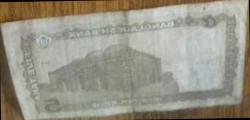5 taka: (19, 5, 246, 117)
